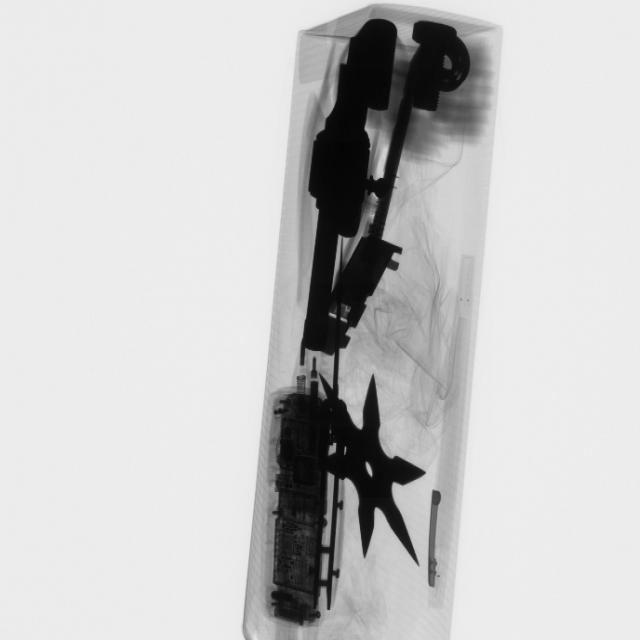GUN: (302, 21, 378, 358)
SHURIKEN: (317, 376, 423, 570)
